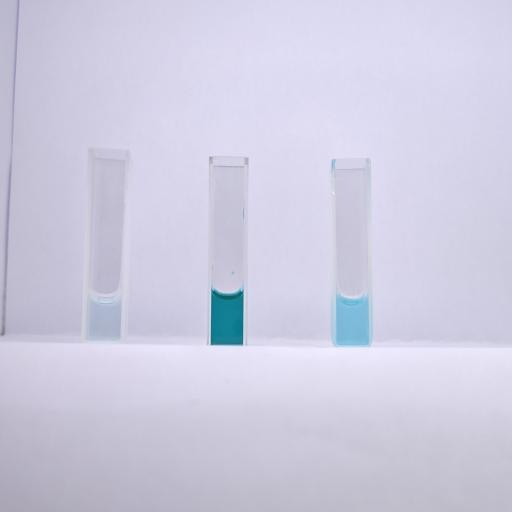cuvette: (80, 146, 133, 345), (328, 158, 374, 350), (205, 152, 250, 346)
liquid: (211, 290, 244, 342), (87, 292, 121, 341), (336, 293, 368, 344)
